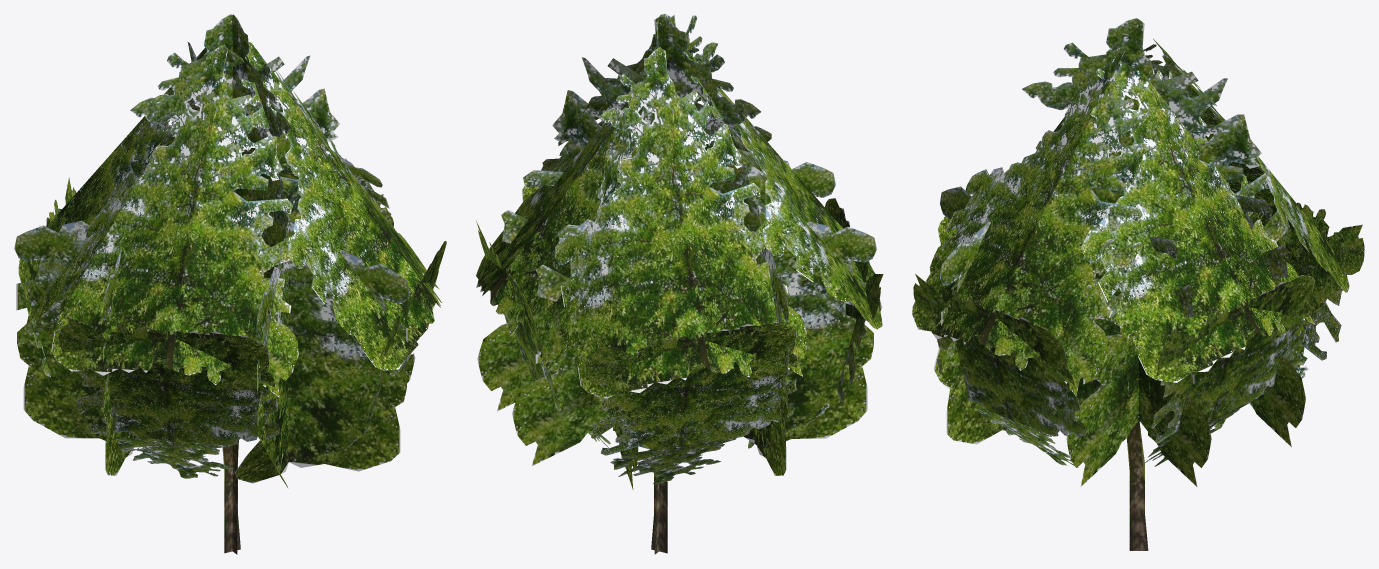
Rendered from vector-tree-3.glb.
The picture shows the model from 3 angles, left to right: view 1: azimuth 30°, elevation 25°; view 2: azimuth 150°, elevation 25°; view 3: azimuth 270°, elevation 25°; orthographic projection.
Visible parts, largest first — view 1: コンポーネント#2; view 2: コンポーネント#2; view 3: コンポーネント#2.
Boxes of the visible parts, x1,y1,x2,y2 form: コンポーネント#2: [14, 14, 446, 554]; コンポーネント#2: [476, 14, 883, 554]; コンポーネント#2: [912, 18, 1364, 550].
Bounding box in the file's own units: 4.64 × 6.38 × 4.91.
Materials: 1 (1 with a texture image).
